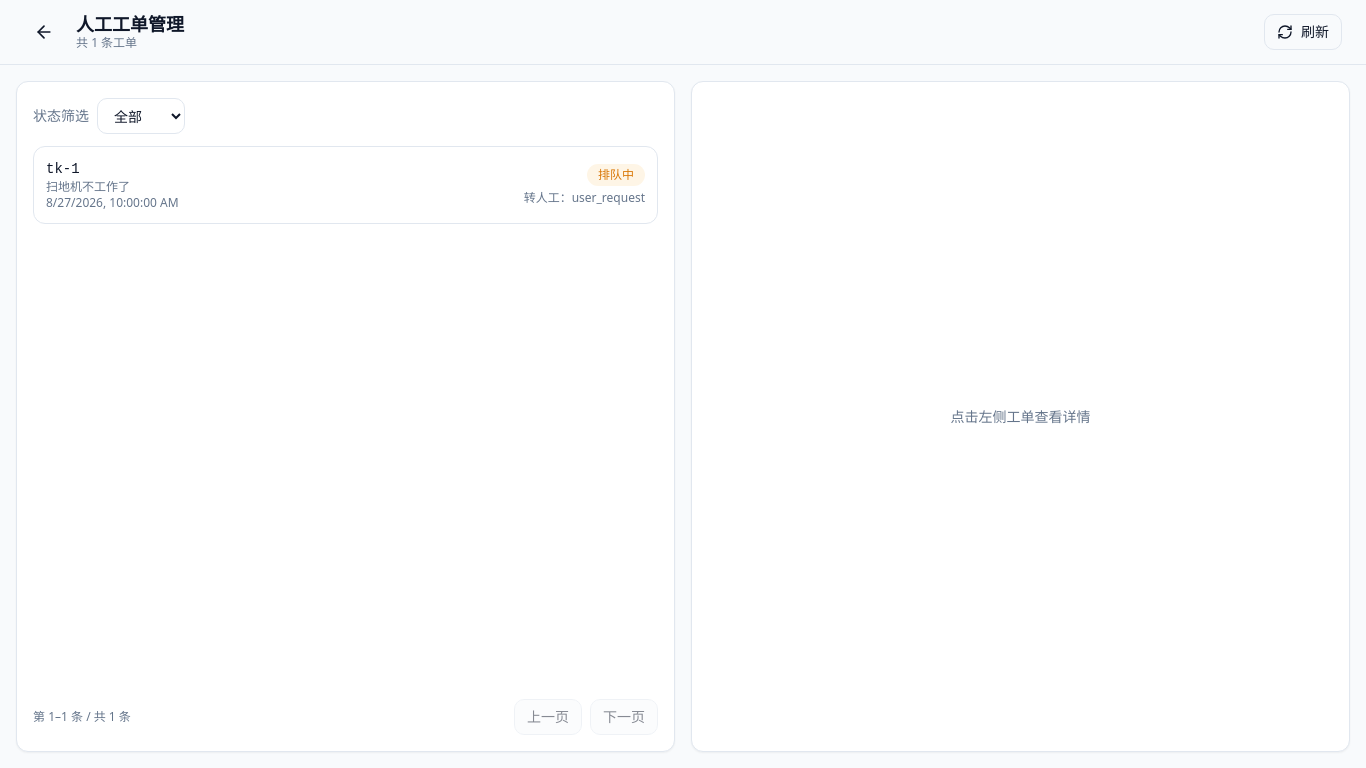
Scenario: AdminHandoffs 管理端 › 点击工单加载详情：展示原因、状态与回复记录
The width and height of the screenshot is (1366, 768).
Click the text "tk-1" at [63, 169], box [46,161,80,177]
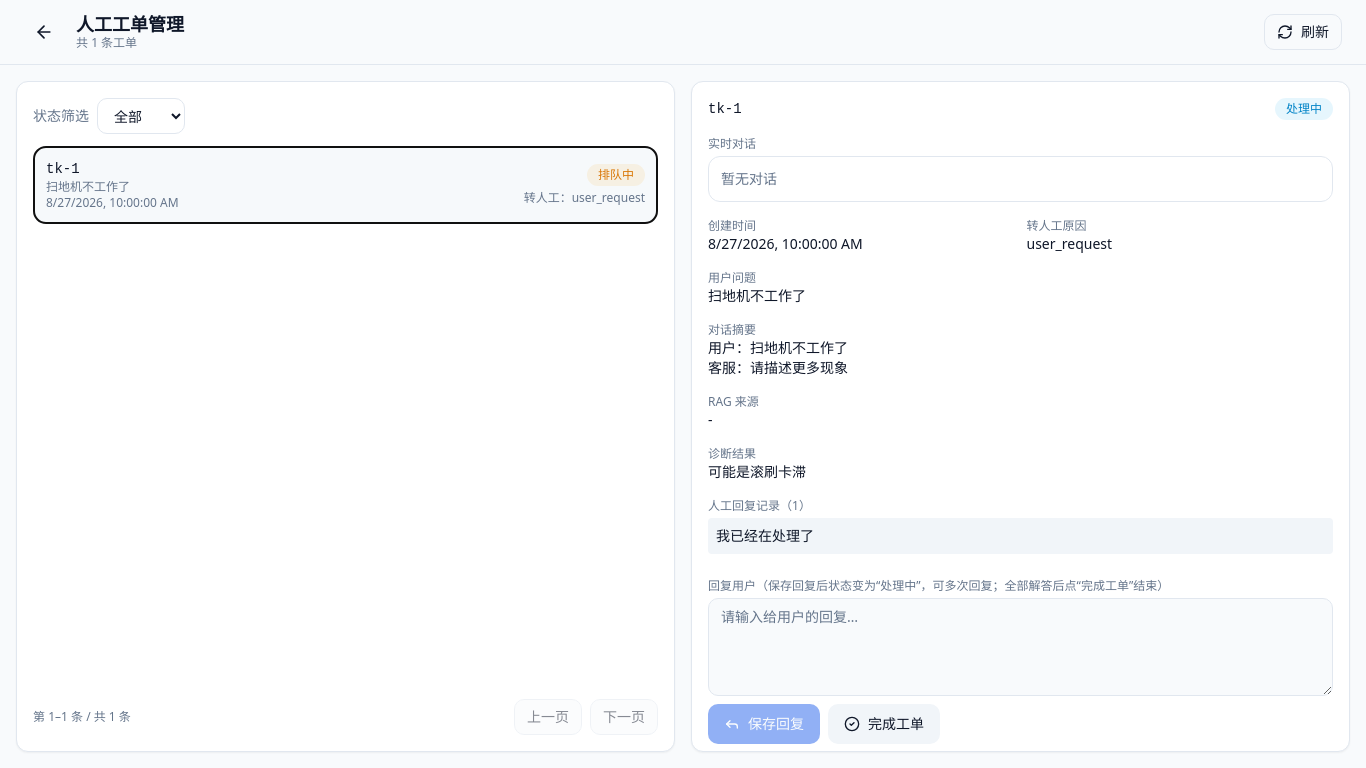
Expected: the text "我已经在处理了" is shown, [708,518,1333,554]
Expected: the text "user_request" is shown, [1026,234,1112,253]
